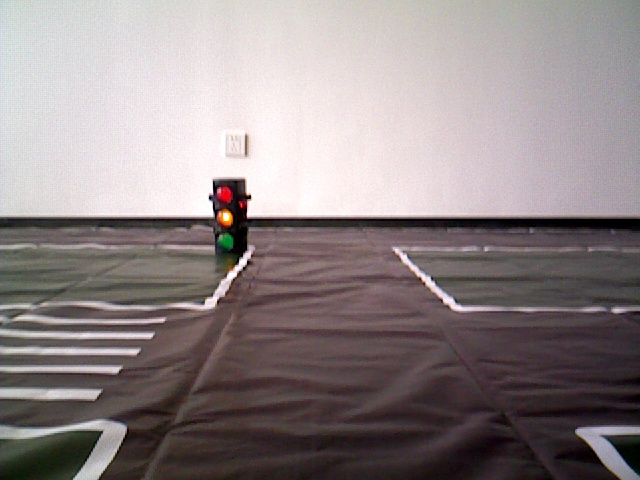yellow: (213, 179, 244, 252)
